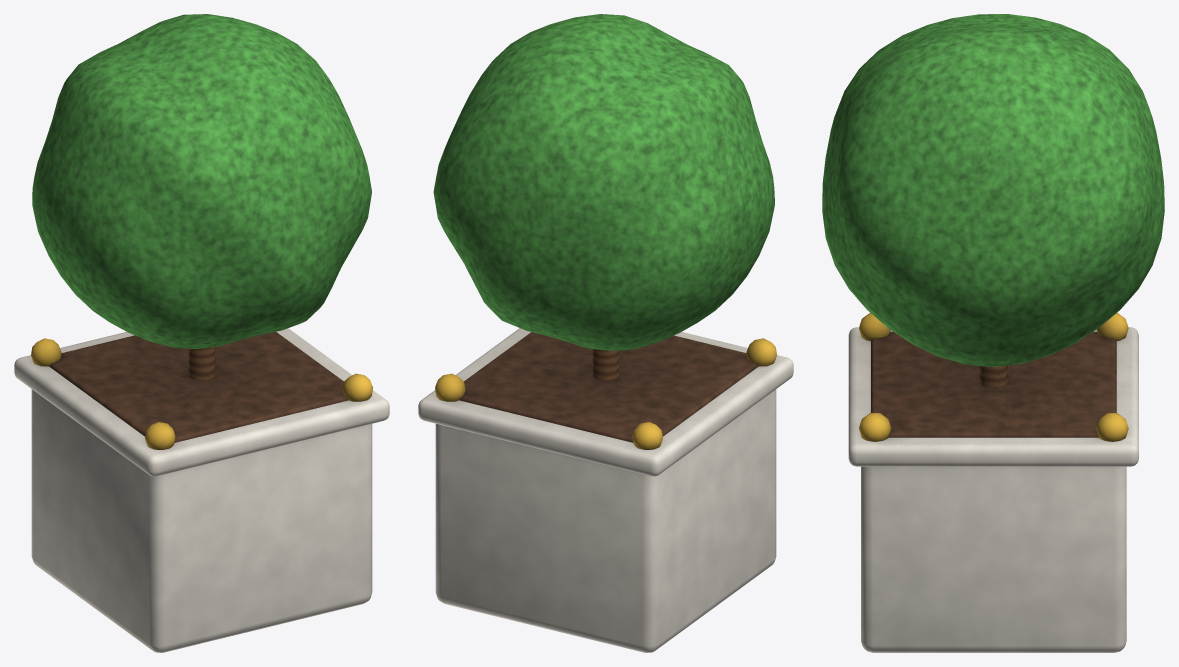
The model's file is Topiary.fbx.
The picture shows the model from 3 angles, left to right: view 1: azimuth 30°, elevation 25°; view 2: azimuth 150°, elevation 25°; view 3: azimuth 270°, elevation 25°; orthographic projection. The views are drawn at different scales.
Parts seen in each view (by area): view 1: Topiary; view 2: Topiary; view 3: Topiary.
Boxes of the visible parts, left/top/right/bottom form: Topiary: left=14, top=14, right=389, bottom=652; Topiary: left=418, top=14, right=793, bottom=652; Topiary: left=822, top=14, right=1164, bottom=652.
Size of the model in its own units: 1.66 by 3.1 by 1.68.
Materials: 1 (1 with a texture image).
